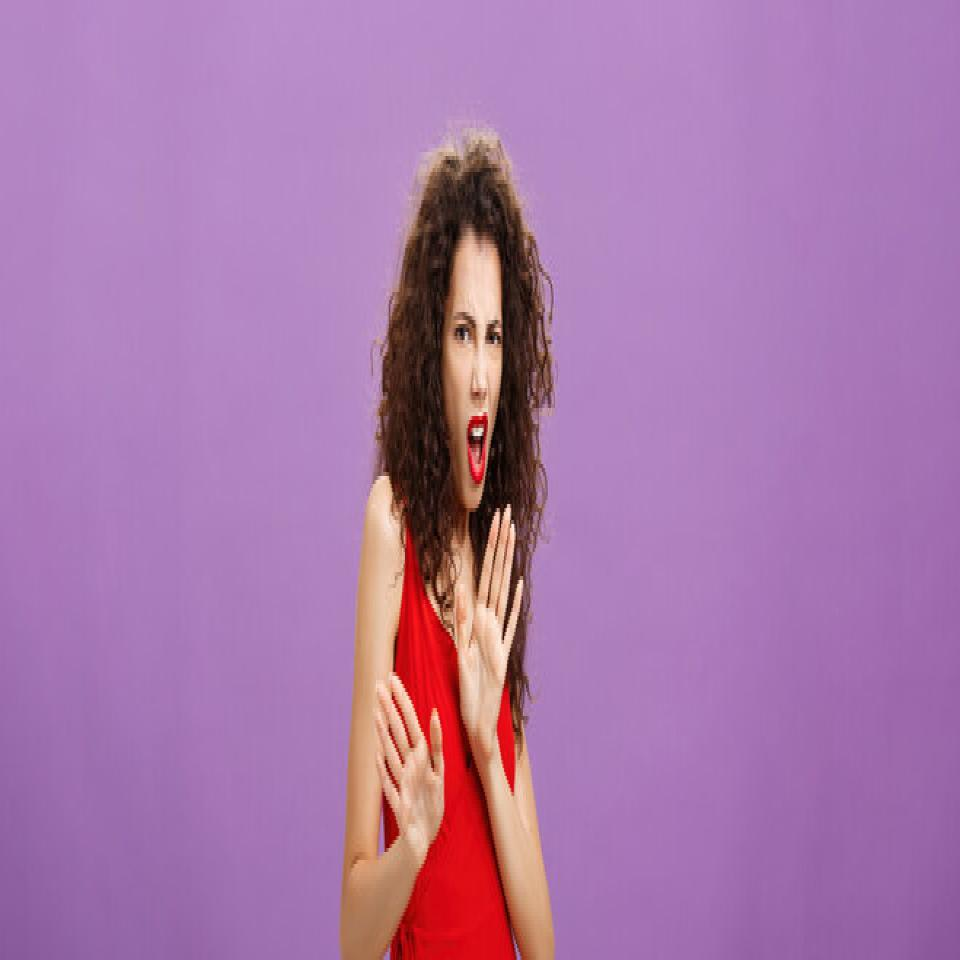Disgust: (439, 226, 506, 510)
